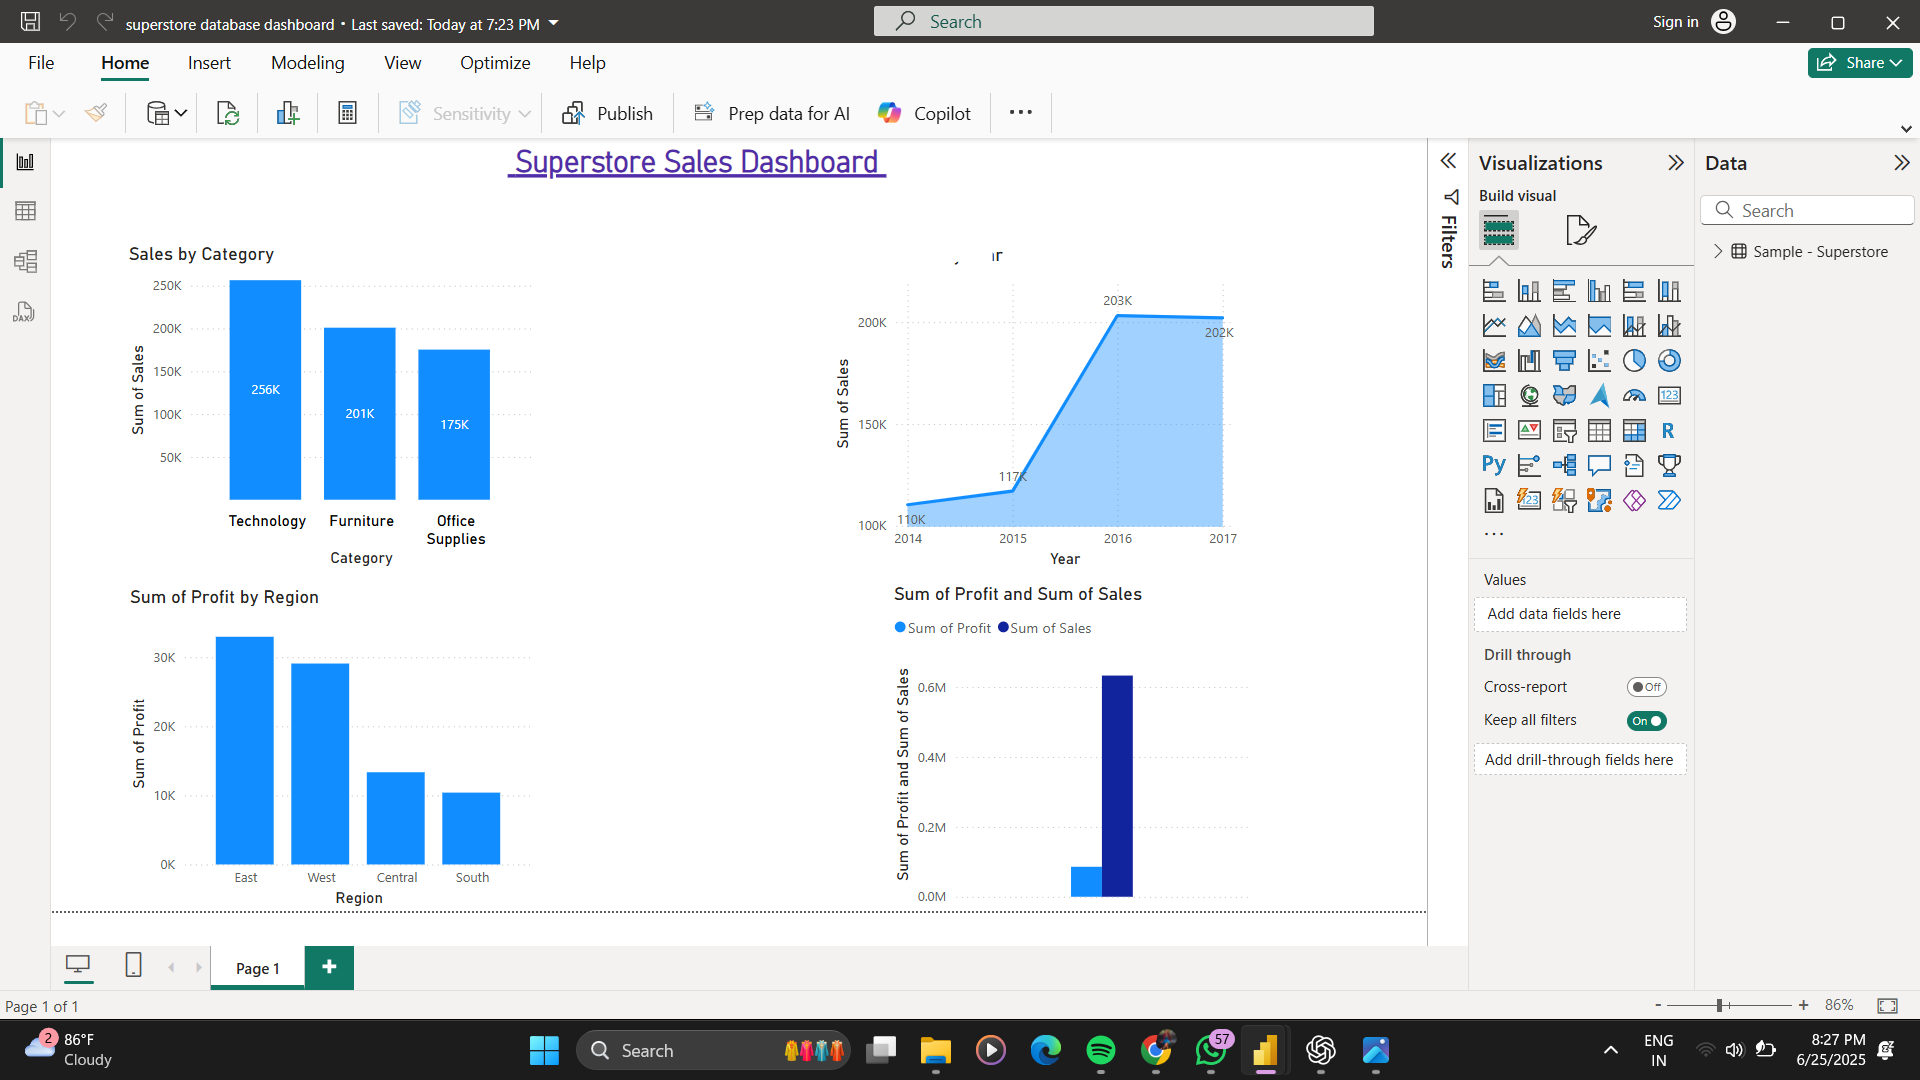

What the dashboard file says about the page in this screenshot:
{"tool":"powerbi","page":{"name":"Page 1","canvas":[1280,720],"ordinal":0},"visuals":[{"type":"clusteredColumnChart","title":"Sales by Category","fields":{"Category":["Sample - Superstore.Category"],"Y":["Sample - Superstore.Sales"]},"box":[67.4,97.7,384.9,305.8],"z":0},{"type":"lineChart","fields":{"Category":["Sample - Superstore.Order Date.Variation.Date Hierarchy.Year"],"Y":["Sample - Superstore.Sales"]},"box":[723.3,98.8,384.9,305.8],"z":1000},{"type":"clusteredColumnChart","fields":{"Category":["Sample - Superstore.Region"],"Y":["Sample - Superstore.Profit"]},"box":[68.6,416.3,384.9,303.5],"z":2000},{"type":"textbox","box":[325.5,0,550.8,115.5],"z":7000},{"type":"lineClusteredColumnComboChart","fields":{"Y":["Sample - Superstore.Profit","Sample - Superstore.Sales"]},"box":[779.1,414,341.9,305.8],"z":7001}]}

Visuals, with their boxes on the page's 1280x720 design canvas (x1, y1, x2, y2). These are canvas units, not pixel positions in the 1920x1080 screenshot, which may show the page scaled, cropped or inside an application window:
"Sales by Category" clusteredColumnChart: box=[67, 98, 452, 404]
lineChart - Sample - Superstore.Order Date.Variation.Date Hierarchy.Year x Sample - Superstore.Sales: box=[723, 99, 1108, 405]
clusteredColumnChart - Sample - Superstore.Region x Sample - Superstore.Profit: box=[69, 416, 454, 720]
textbox: box=[326, 0, 876, 116]
lineClusteredColumnComboChart - Sample - Superstore.Profit x Sample - Superstore.Sales: box=[779, 414, 1121, 720]
